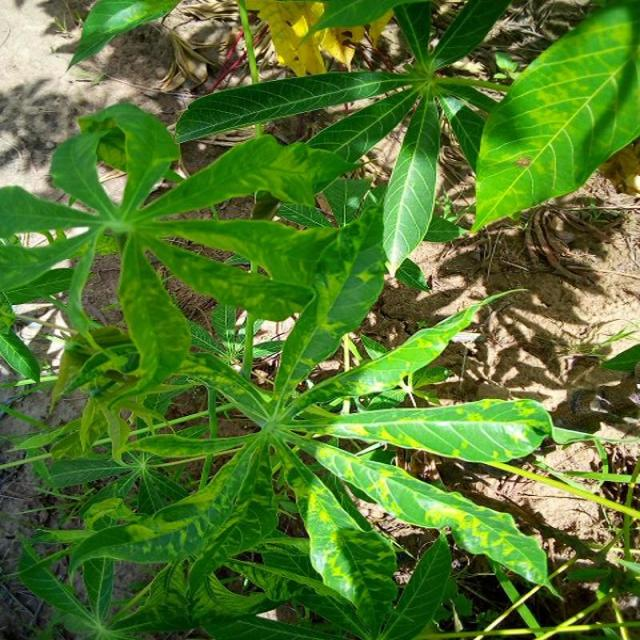cassava leaf: (469, 1, 638, 236)
